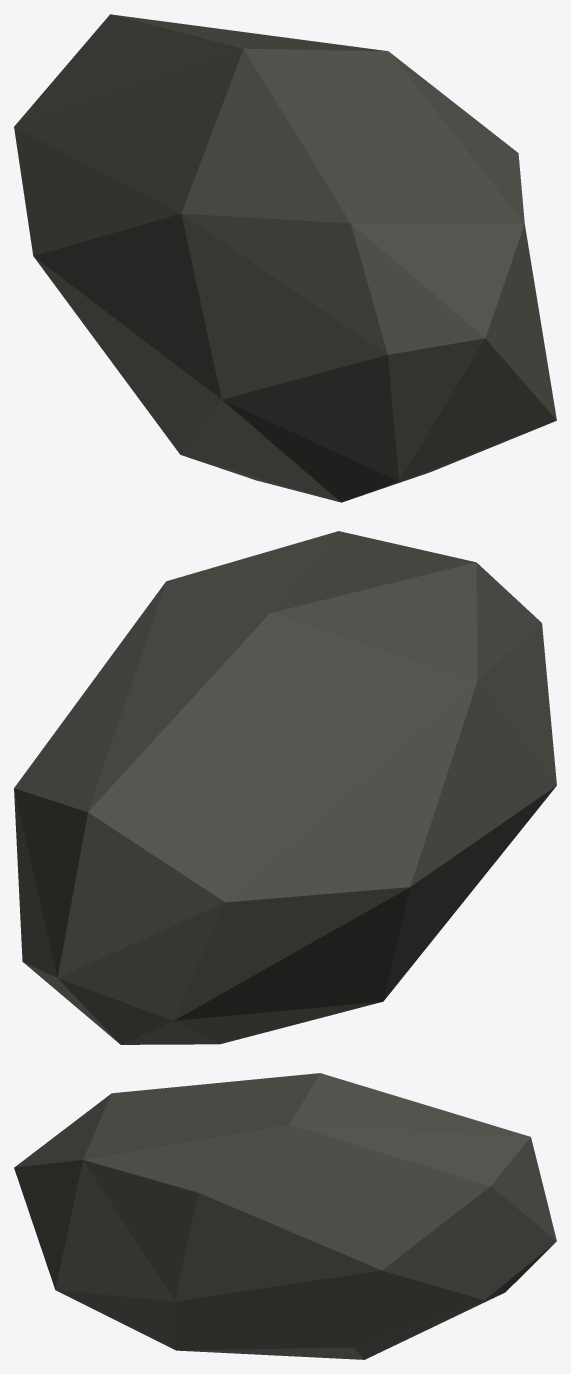
Rendered from Stone_Ball.fbx.
The picture shows the model from 3 angles, top to bottom: view 1: azimuth 30°, elevation 25°; view 2: azimuth 150°, elevation 25°; view 3: azimuth 270°, elevation 25°; orthographic projection. The views are drawn at different scales.
Visible parts, largest first — view 1: Stone_Ball; view 2: Stone_Ball; view 3: Stone_Ball.
Part boxes in pixels (x1,y1,x2,y2): Stone_Ball: (14, 14, 556, 502); Stone_Ball: (14, 531, 556, 1044); Stone_Ball: (14, 1073, 556, 1359).
Bounding box in the file's own units: 12.59 × 12.87 × 23.45.
Materials: 1 (1 with a texture image).
